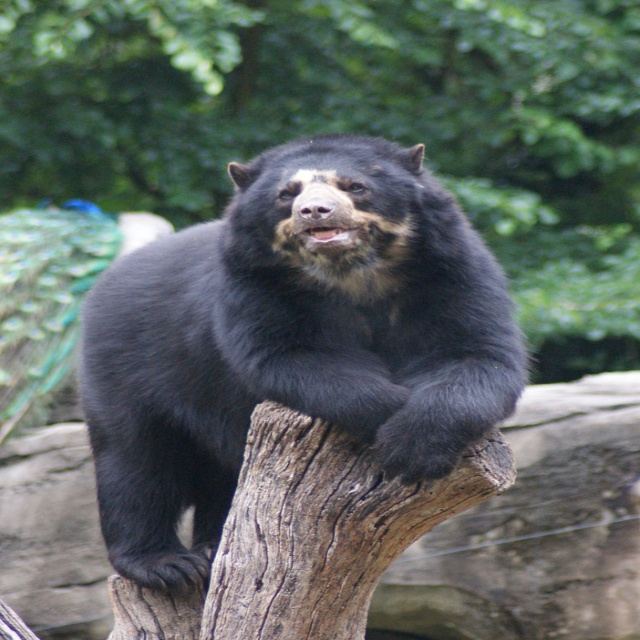Bear: (71, 132, 538, 595)
